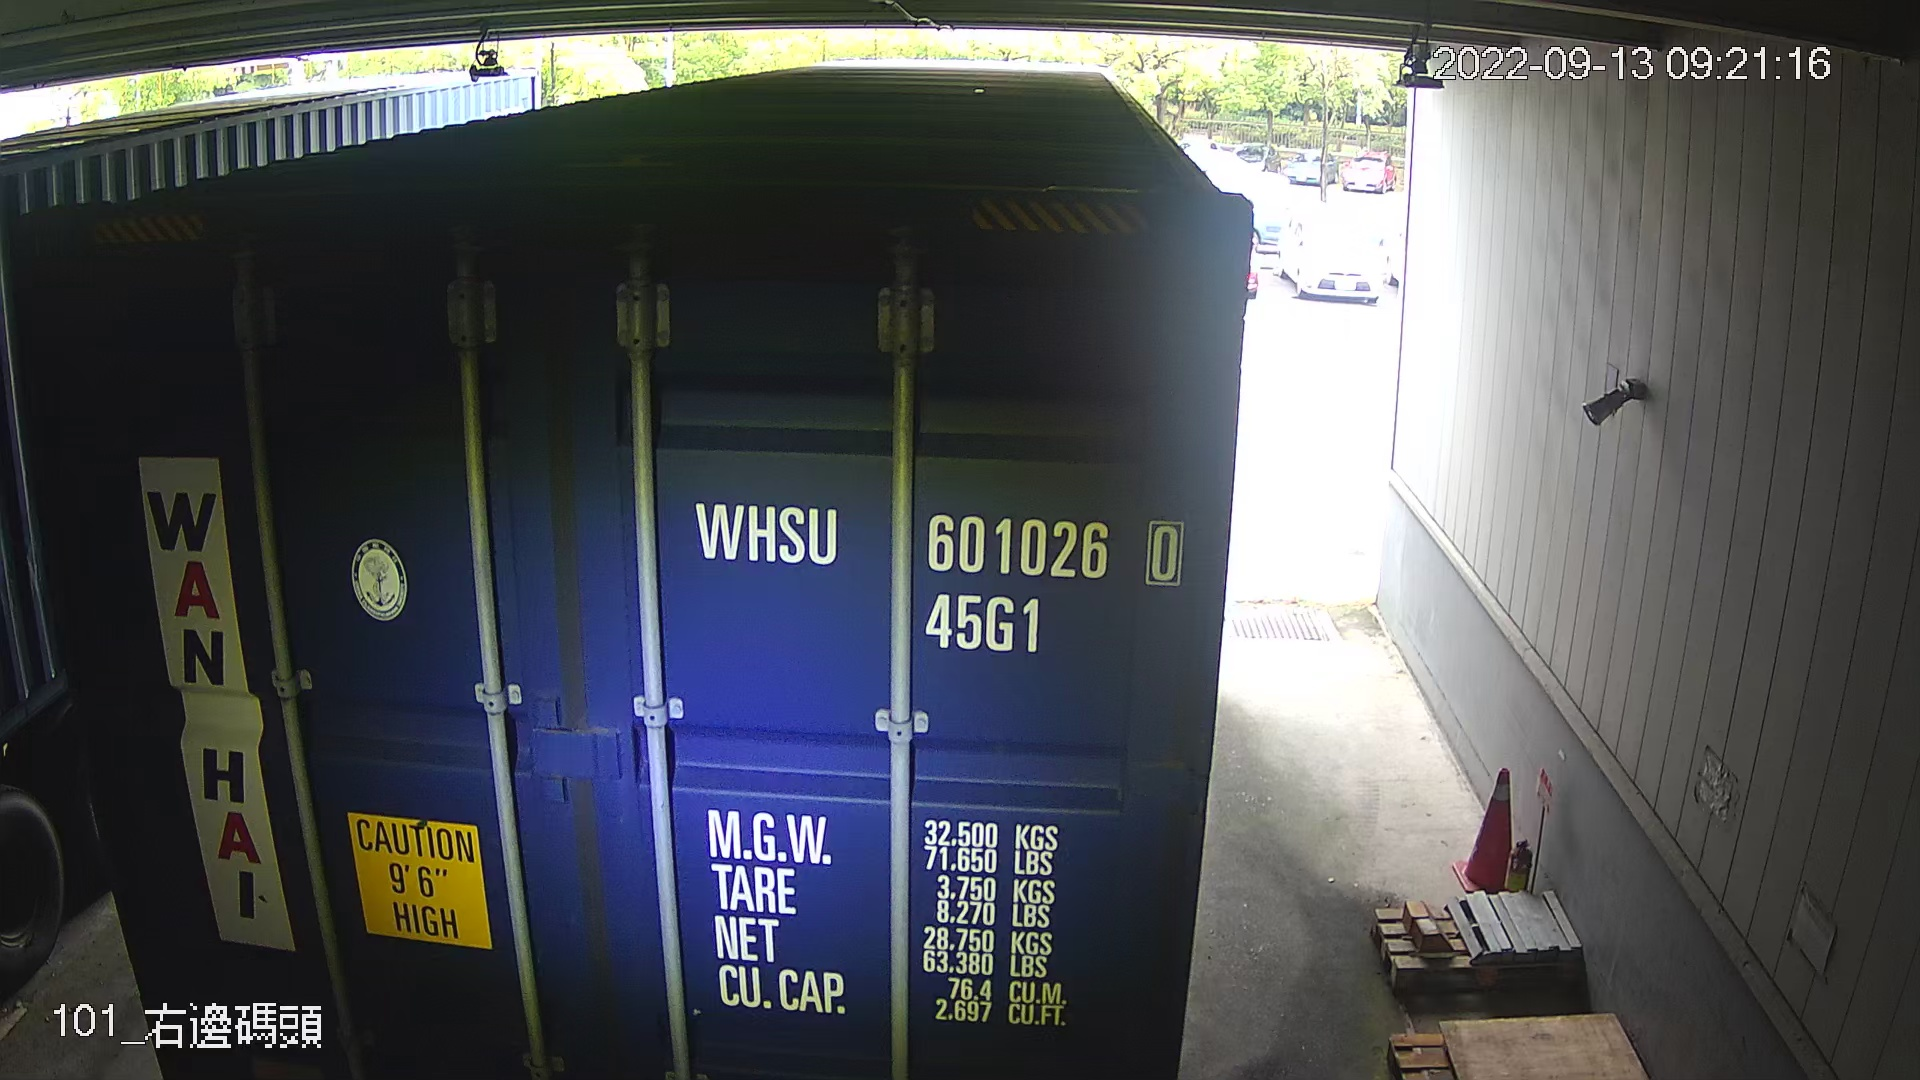container: (687, 485, 1197, 661)
